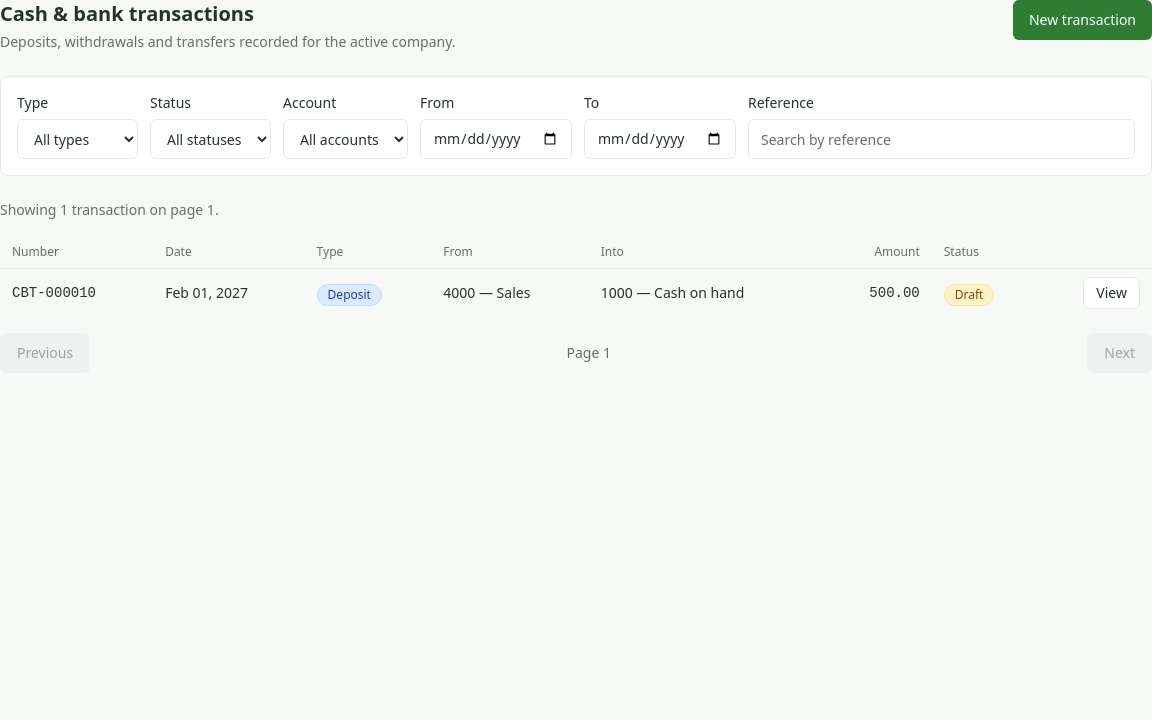
Test: CashBankTransactionsView › opens the detail dialog from a row
Click the button "View": (1112, 293) [1083, 277, 1140, 309]
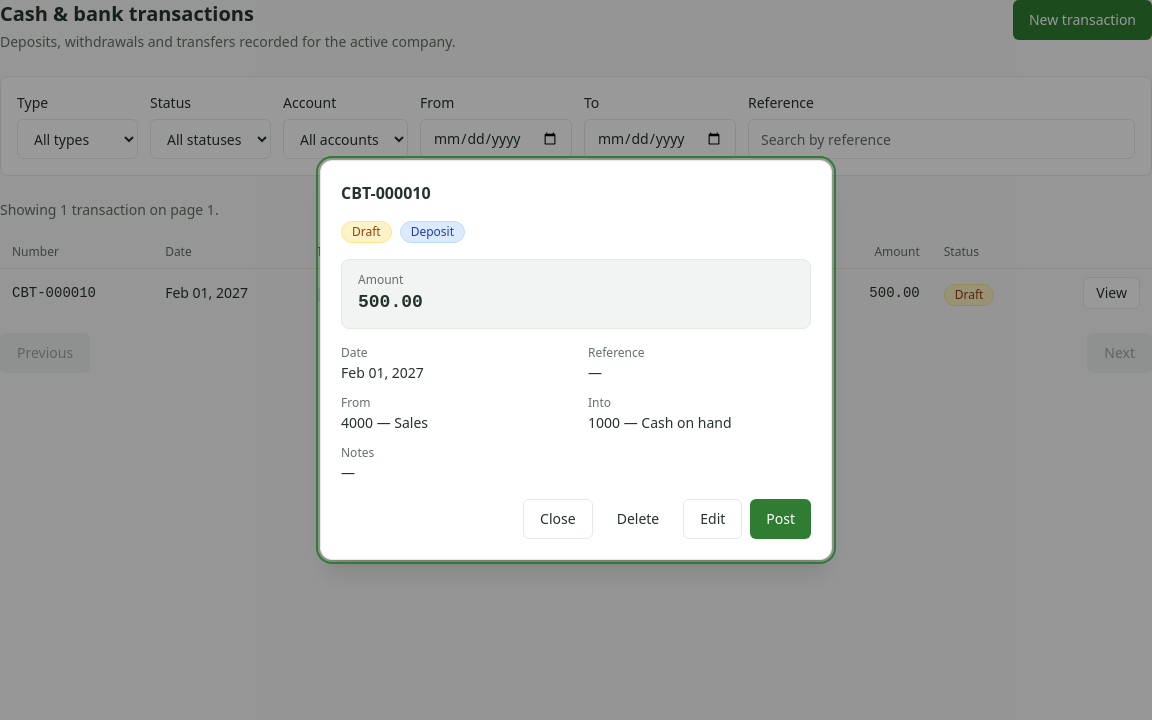
Expected: the dialog "CBT-000010" is shown, [320, 160, 832, 560]
